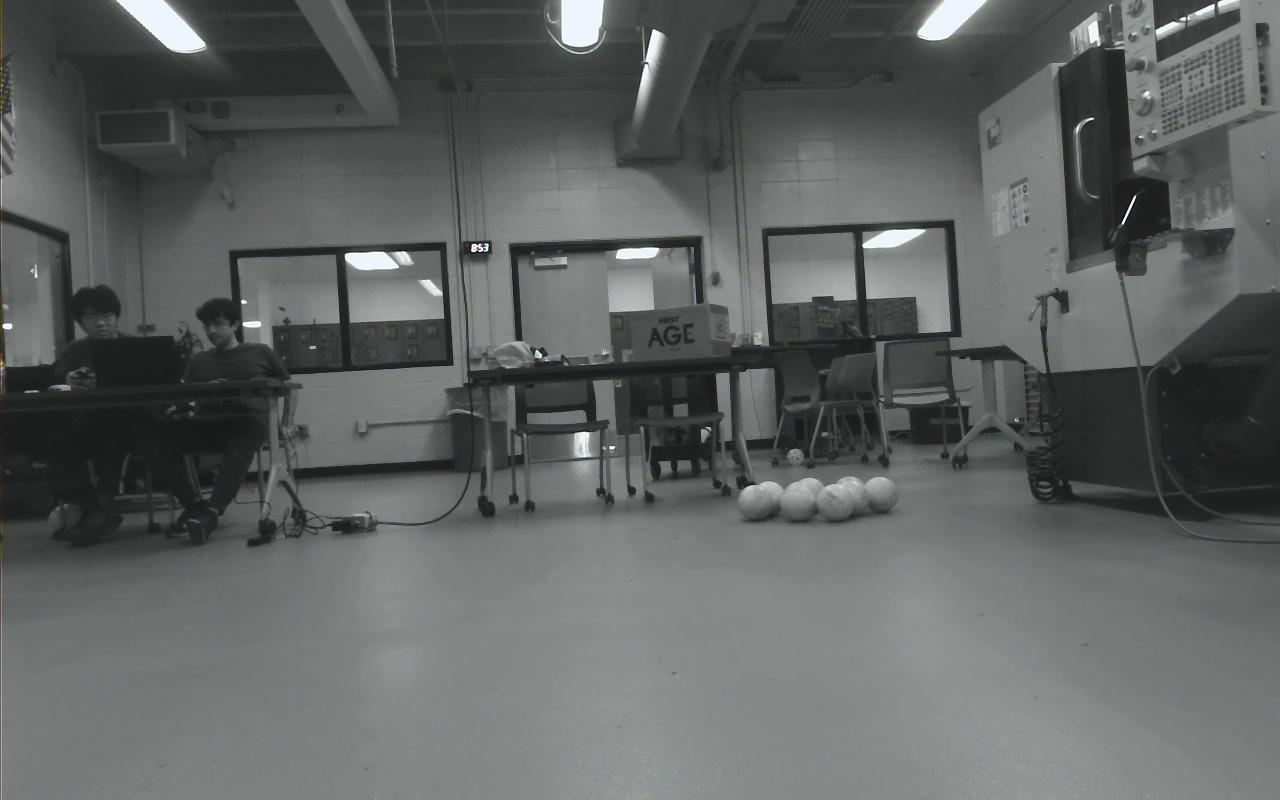Fuel: (817, 483, 856, 522), (780, 482, 818, 522), (739, 484, 776, 522), (863, 476, 900, 514), (780, 481, 818, 516), (835, 476, 868, 515), (796, 477, 827, 515), (837, 480, 869, 516), (756, 480, 785, 517)
